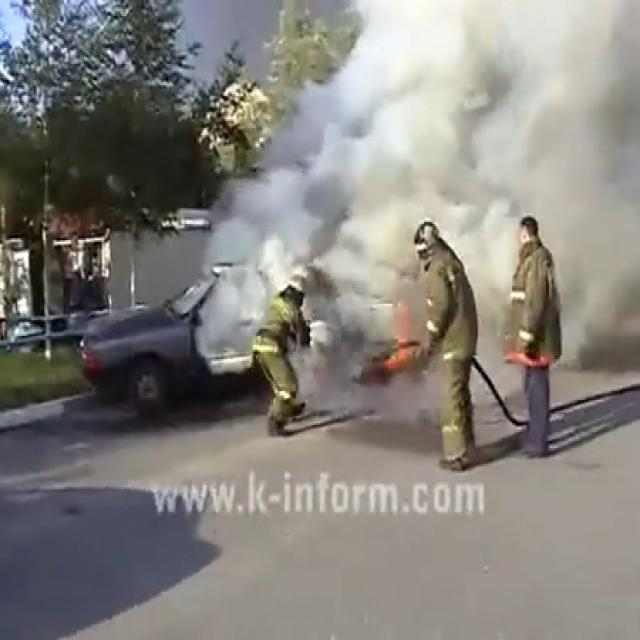Smoke: (206, 0, 639, 352)
